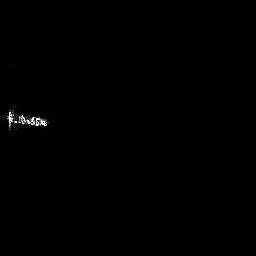ship: (3, 106, 50, 132)
